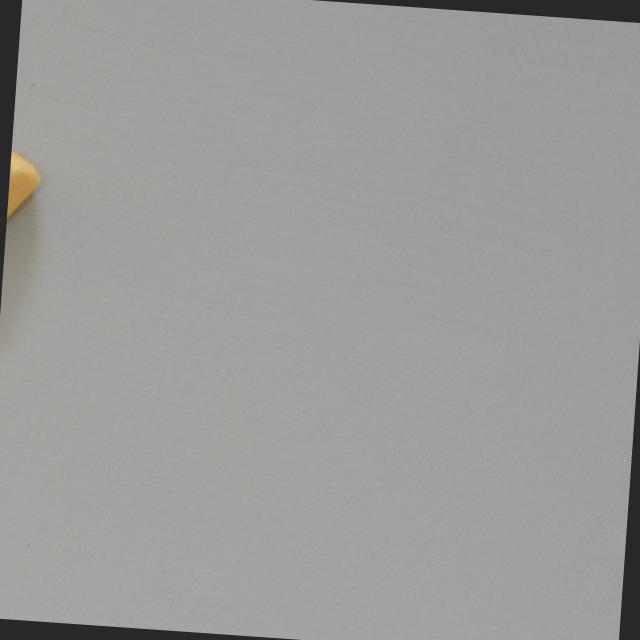entero: (3, 141, 45, 270)
